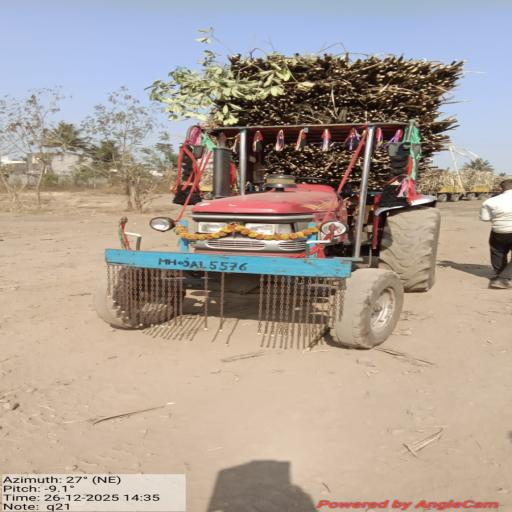number_plate: (137, 244, 269, 286)
